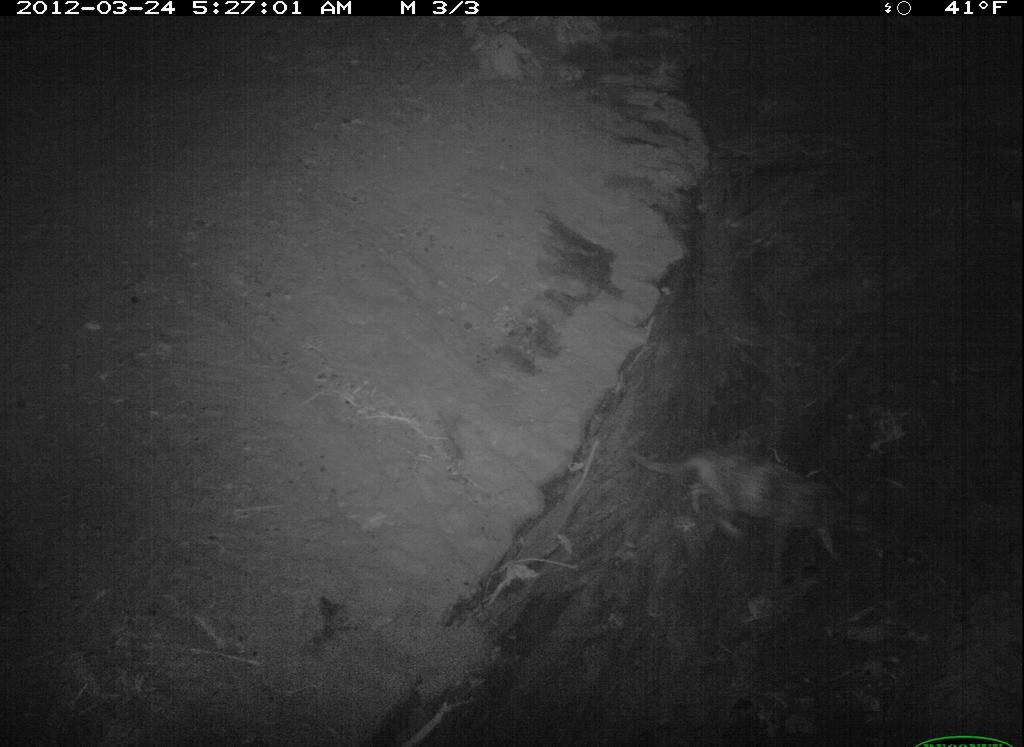cat: (619, 436, 891, 578)
